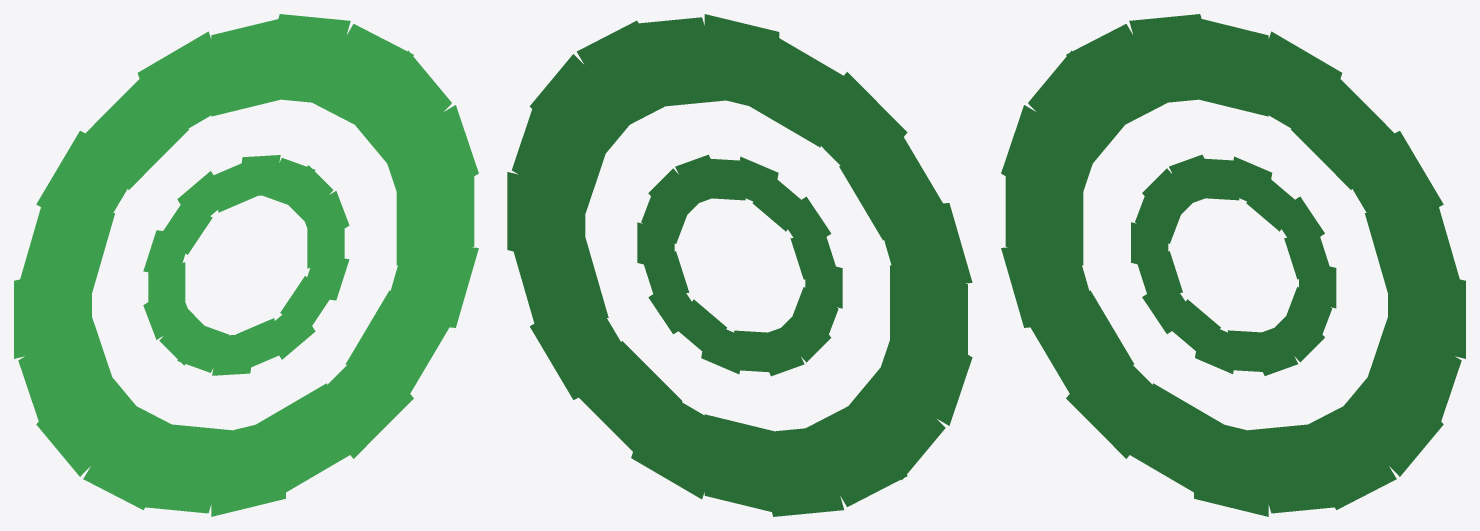
The model's file is ITk_coupled_ring.obj.
3 views of the same model, side by side, from view 1: azimuth 30°, elevation 25°; view 2: azimuth 150°, elevation 25°; view 3: azimuth 330°, elevation 25° (orthographic).
Bounding box in the file's own units: 241 × 241 × 4.
